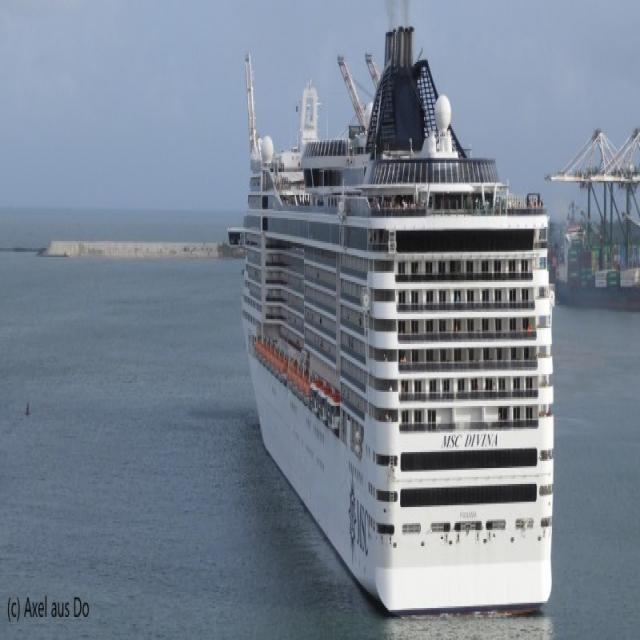cruises: (226, 24, 559, 623)
